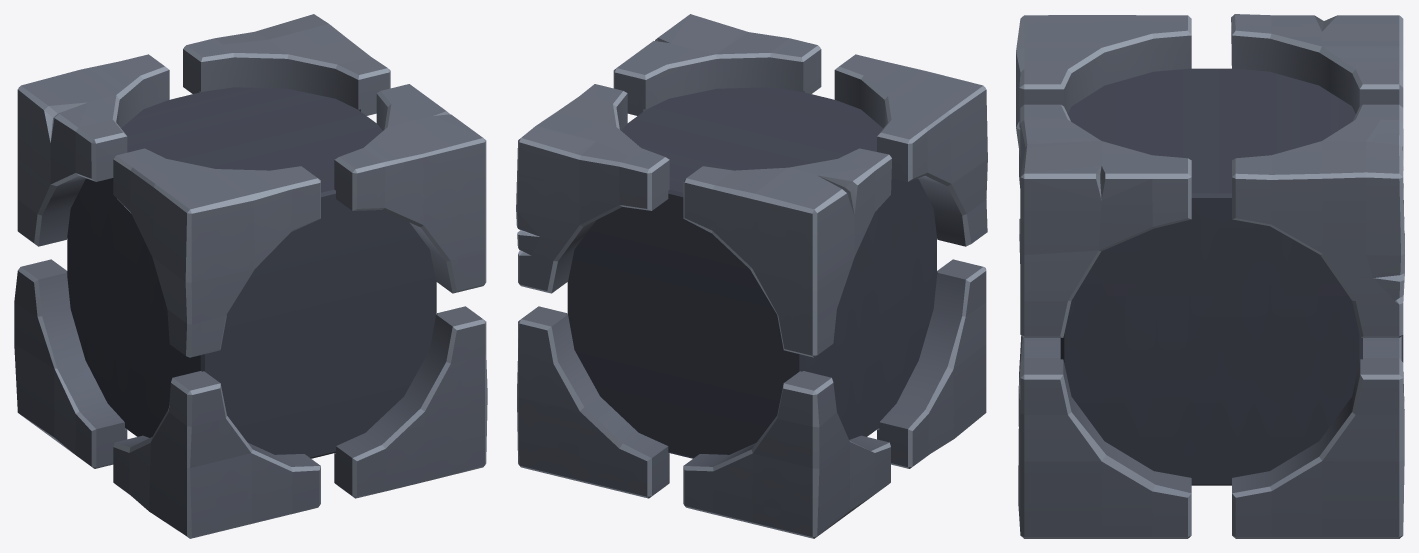
Rendered from PushableCube.fbx.
3 renders of one model, left to right at view 1: azimuth 30°, elevation 25°; view 2: azimuth 150°, elevation 25°; view 3: azimuth 270°, elevation 25°, orthographic. The views are drawn at different scales.
Parts seen in each view (by area): view 1: Cube_Core, Cube_Corners_7, Cube_Corners_6, Cube_Corners_2, Cube_Corners_9, Cube_Corners_5, Cube_Corners_8, Cube_Corners_3; view 2: Cube_Core, Cube_Corners_9, Cube_Corners_8, Cube_Corners_3, Cube_Corners_7, Cube_Corners_4, Cube_Corners_6, Cube_Corners_2; view 3: Cube_Core, Cube_Corners_3, Cube_Corners_2, Cube_Corners_5, Cube_Corners_4, Cube_Corners_7, Cube_Corners_9, Cube_Corners_6, Cube_Corners_8.
Part boxes in pixels (left/top/right/bottom): Cube_Core: left=67, top=87, right=436, bottom=458; Cube_Corners_7: left=113, top=148, right=320, bottom=357; Cube_Corners_6: left=113, top=371, right=320, bottom=538; Cube_Corners_2: left=334, top=84, right=486, bottom=293; Cube_Corners_9: left=17, top=54, right=169, bottom=246; Cube_Corners_5: left=334, top=306, right=487, bottom=498; Cube_Corners_8: left=14, top=259, right=127, bottom=468; Cube_Corners_3: left=183, top=14, right=390, bottom=115; Cube_Core: left=567, top=87, right=936, bottom=458; Cube_Corners_9: left=683, top=148, right=891, bottom=357; Cube_Corners_8: left=683, top=371, right=890, bottom=538; Cube_Corners_3: left=516, top=84, right=669, bottom=293; Cube_Corners_7: left=834, top=54, right=987, bottom=246; Cube_Corners_4: left=517, top=306, right=669, bottom=498; Cube_Corners_6: left=877, top=259, right=986, bottom=468; Cube_Corners_2: left=613, top=14, right=821, bottom=115; Cube_Core: left=1060, top=68, right=1362, bottom=485; Cube_Corners_3: left=1232, top=104, right=1404, bottom=337; Cube_Corners_2: left=1020, top=104, right=1191, bottom=337; Cube_Corners_5: left=1018, top=358, right=1191, bottom=538; Cube_Corners_4: left=1232, top=358, right=1404, bottom=538; Cube_Corners_7: left=1016, top=15, right=1191, bottom=187; Cube_Corners_9: left=1231, top=14, right=1403, bottom=166; Cube_Corners_6: left=1018, top=219, right=1060, bottom=426; Cube_Corners_8: left=1363, top=231, right=1404, bottom=362.
Size of the model in its own units: 1.93 by 1.93 by 2.01.
